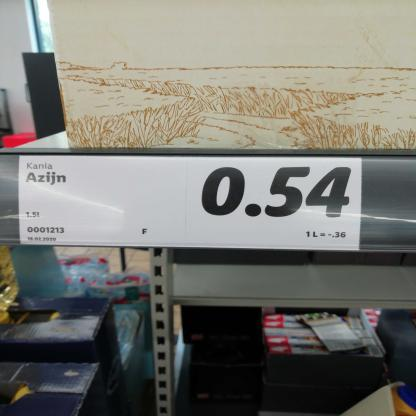prtg: (20, 157, 362, 252)
